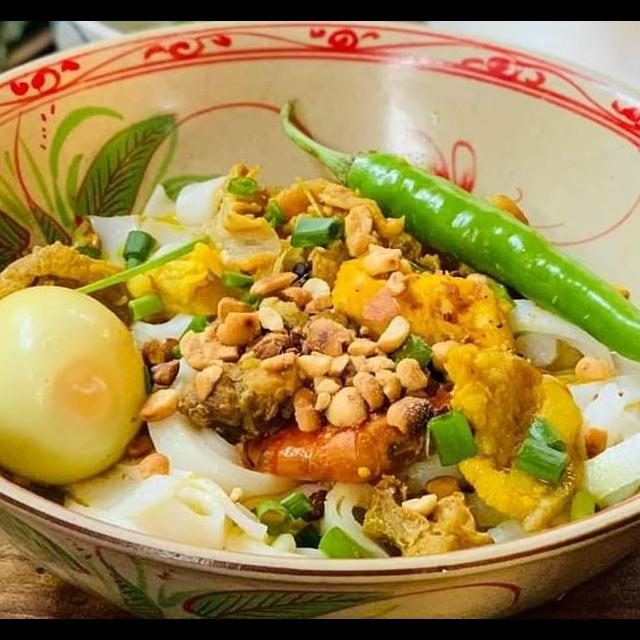ca: (436, 347, 591, 540), (328, 244, 523, 368)
mi: (40, 170, 330, 564), (498, 286, 640, 517), (310, 444, 536, 559)
tom: (231, 371, 459, 486)
trung: (0, 276, 159, 493)
